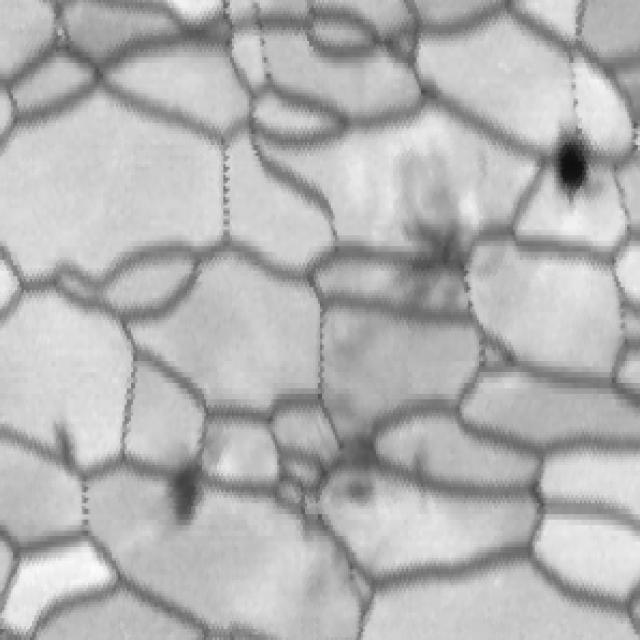good_void: (384, 139, 492, 311), (307, 415, 392, 522), (540, 108, 603, 213), (151, 435, 213, 540), (37, 408, 90, 482), (550, 130, 592, 208)
